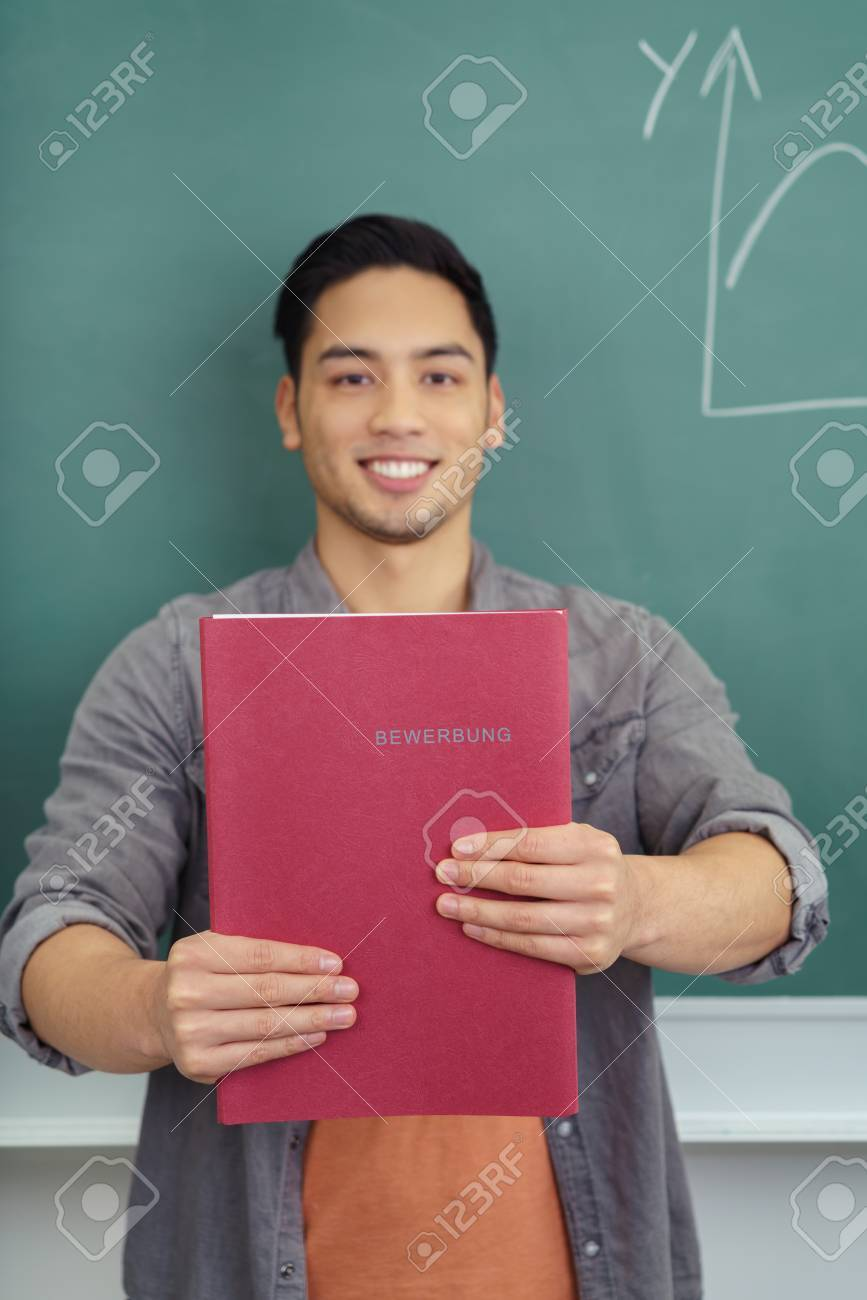red folder: (191, 586, 611, 1136)
